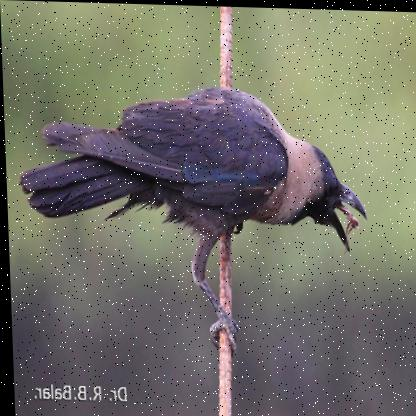Burung: (16, 82, 371, 355)
